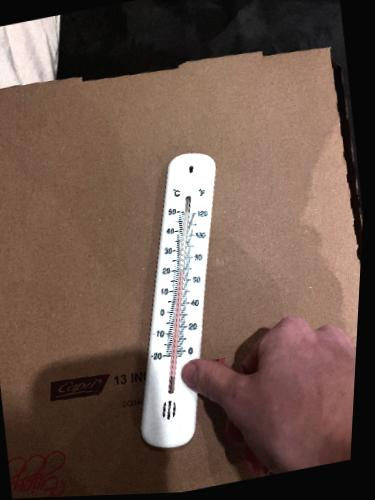thermo: (138, 149, 226, 453)
